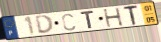1: (24, 16, 36, 37)
C: (61, 13, 77, 32)
D: (34, 14, 55, 35)
H: (102, 6, 125, 28)
T: (123, 4, 140, 26), (79, 10, 96, 29)
